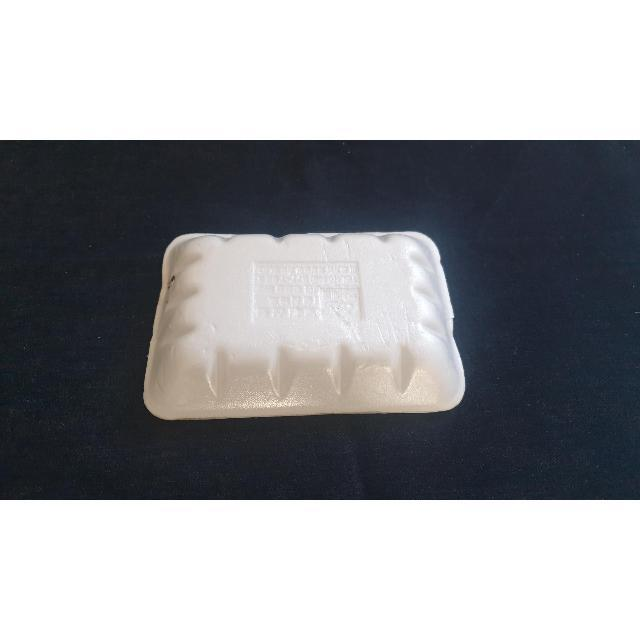Plastico descartable: (141, 231, 467, 424)
